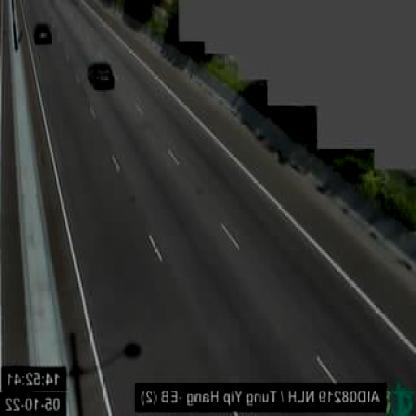Car: (87, 61, 115, 90), (34, 24, 52, 45)
